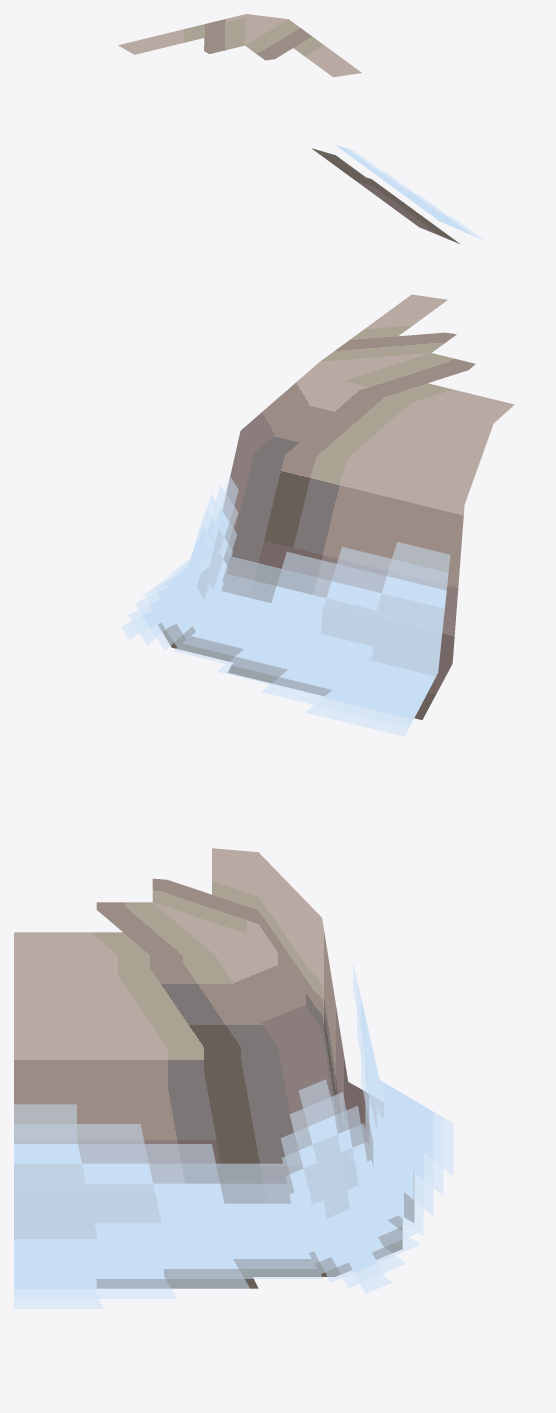
3 views of the same model, one above another, from view 1: azimuth 30°, elevation 25°; view 2: azimuth 150°, elevation 25°; view 3: azimuth 270°, elevation 25° (orthographic). The views are drawn at different scales.
Size of the model in its own units: 1.05 by 0.7266 by 1.05.
2 materials, 2 textured.
